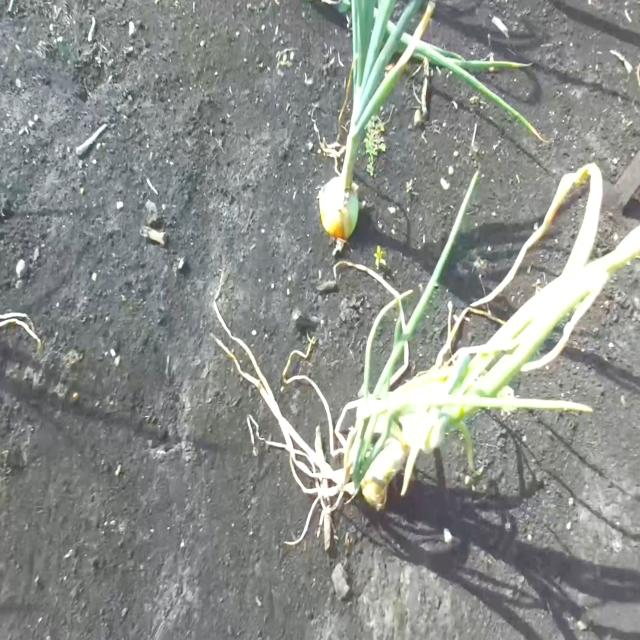onion: (318, 175, 359, 242)
